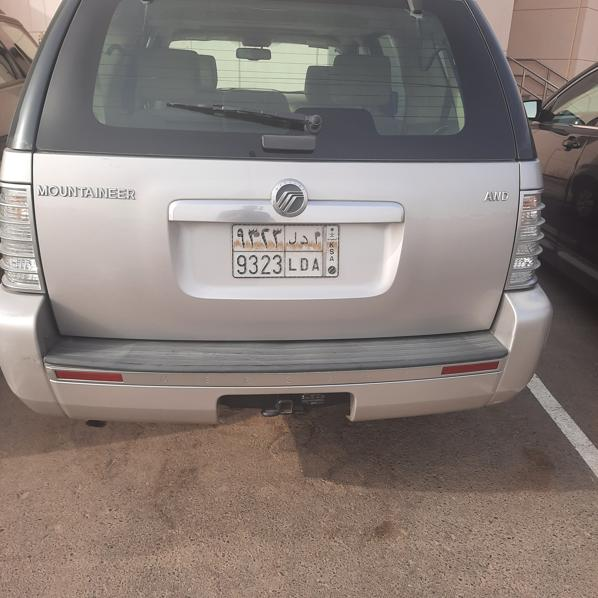numberplate: (233, 223, 339, 277)
